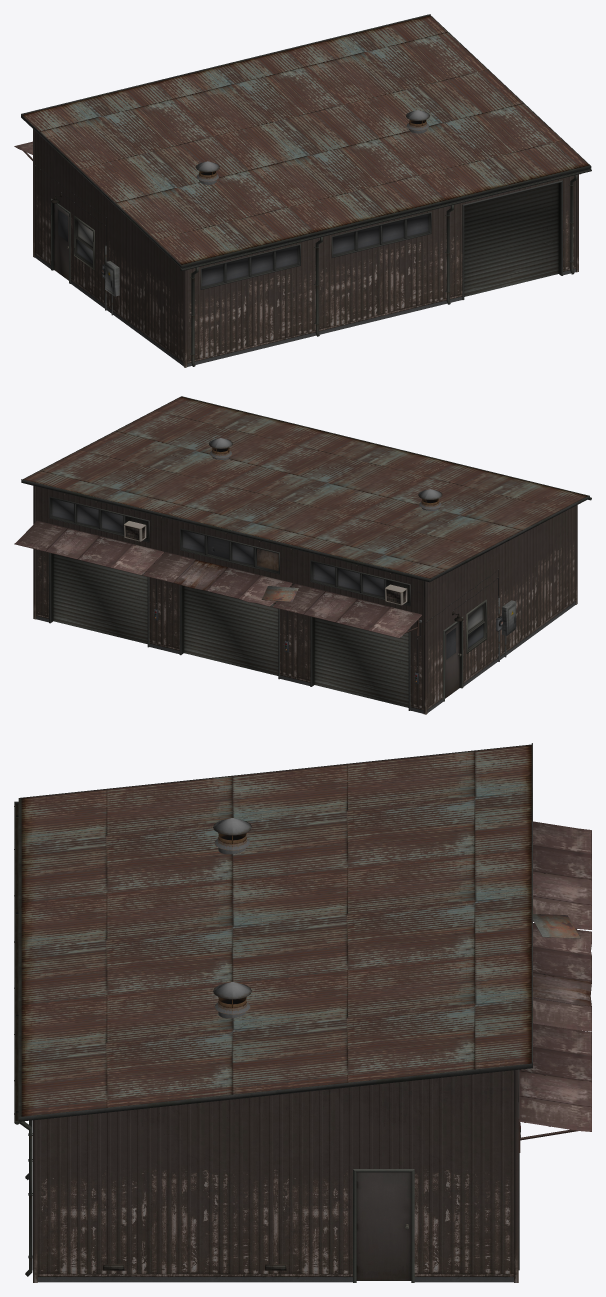
The model's file is Warehouse.glb.
The picture shows the model from 3 angles, top to bottom: view 1: azimuth 30°, elevation 25°; view 2: azimuth 150°, elevation 25°; view 3: azimuth 270°, elevation 25°; orthographic projection. The views are drawn at different scales.
Visible parts, largest first — view 1: Node1; view 2: Node1; view 3: Node1.
Boxes of the visible parts, bbox=[...] form: Node1: bbox=[14, 14, 591, 367]; Node1: bbox=[14, 396, 591, 714]; Node1: bbox=[14, 743, 591, 1282].
Bounding box in the file's own units: 29.74 × 9.79 × 22.66.
Materials: 1 (1 with a texture image).
